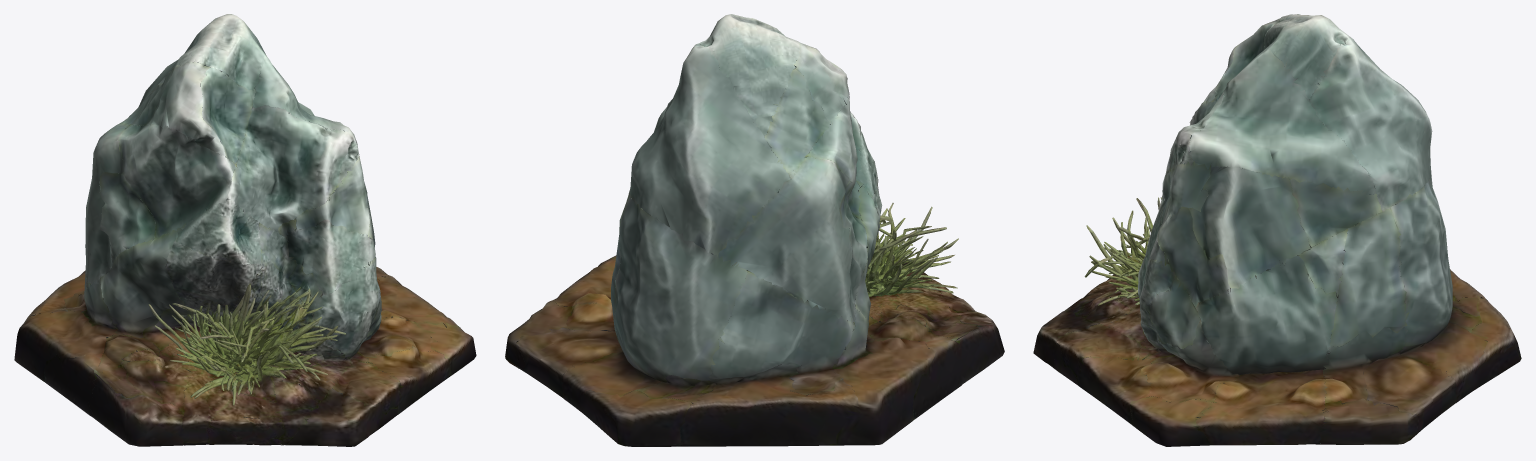
File: masso.glb
The picture shows the model from 3 angles, left to right: view 1: azimuth 30°, elevation 25°; view 2: azimuth 150°, elevation 25°; view 3: azimuth 270°, elevation 25°; orthographic projection. The views are drawn at different scales.
Parts seen in each view (by area): view 1: Mesh_0; view 2: Mesh_0; view 3: Mesh_0.
Boxes of the visible parts, <box> form: Mesh_0: <box>14,14,476,446</box>; Mesh_0: <box>505,14,1004,446</box>; Mesh_0: <box>1033,14,1521,446</box>.
Size of the model in its own units: 1.65 by 1.48 by 1.9.
Materials: 1 (1 with a texture image).
